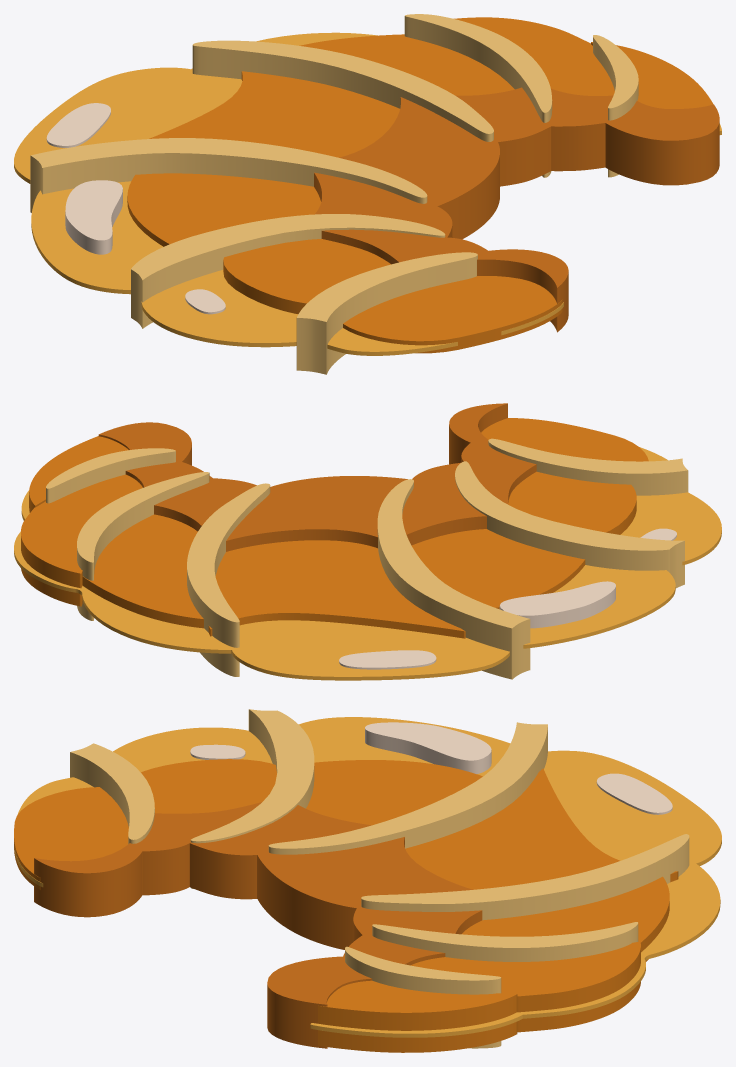
The model's file is emoji_u1f950.glb.
3 renders of one model, top to bottom at view 1: azimuth 30°, elevation 25°; view 2: azimuth 150°, elevation 25°; view 3: azimuth 270°, elevation 25°, orthographic. The views are drawn at different scales.
Parts seen in each view (by area): view 1: emoji_u1f950; view 2: emoji_u1f950; view 3: emoji_u1f950.
Part boxes in pixels (x1=…): emoji_u1f950: x1=14, y1=14, x2=721, y2=374; emoji_u1f950: x1=14, y1=403, x2=721, y2=680; emoji_u1f950: x1=14, y1=709, x2=721, y2=1052.
Bounding box in the file's own units: 0.034 × 0.0034 × 0.0321.
